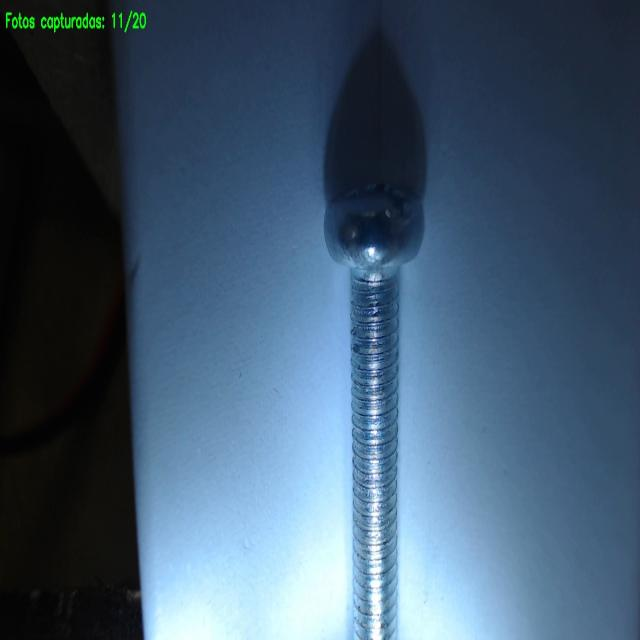vastago: (352, 278, 398, 639)
